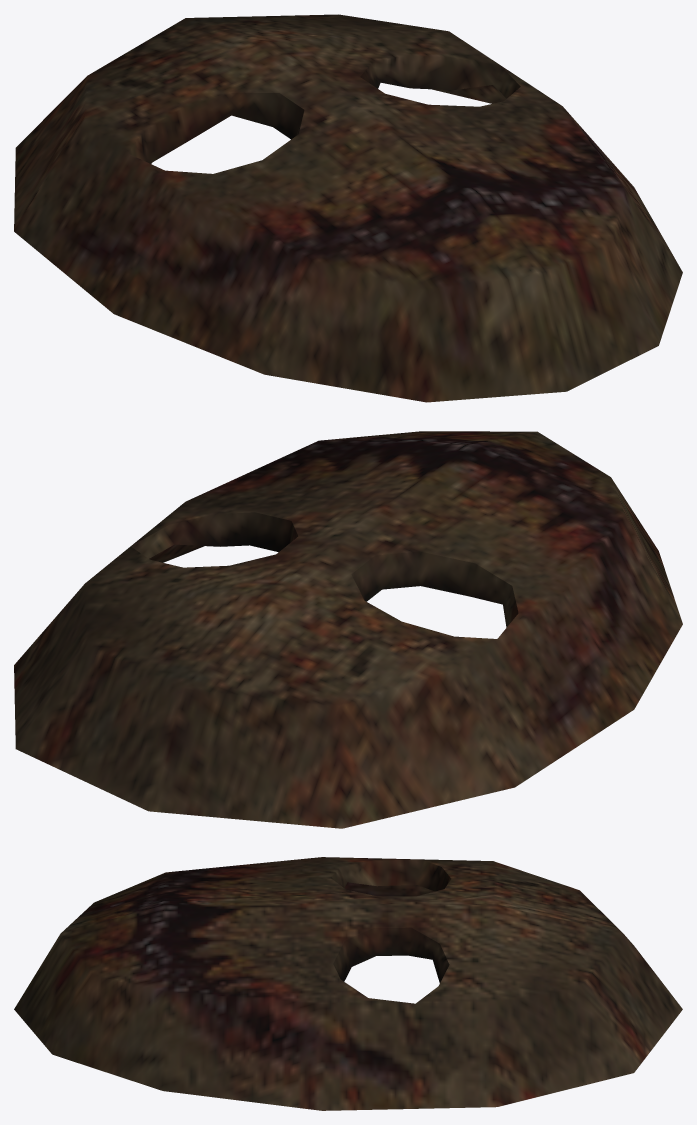
File: mask_mx_2.obj
3 views of the same model, one above another, from view 1: azimuth 30°, elevation 25°; view 2: azimuth 150°, elevation 25°; view 3: azimuth 270°, elevation 25° (orthographic). The views are drawn at different scales.
Visible parts, largest first — view 1: mask_mx_2; view 2: mask_mx_2; view 3: mask_mx_2.
Boxes of the visible parts, bbox=[...] form: mask_mx_2: bbox=[14, 14, 682, 402]; mask_mx_2: bbox=[14, 431, 682, 828]; mask_mx_2: bbox=[14, 857, 682, 1110].
Bounding box in the file's own units: 0.2297 × 0.0554 × 0.3198.
